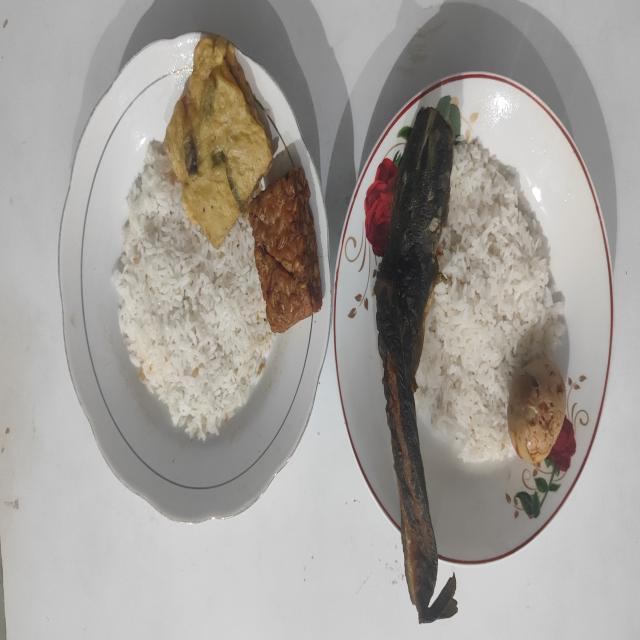nasi_putih: (112, 142, 276, 440), (417, 140, 564, 462)
tempe_goreng: (249, 168, 322, 332)
